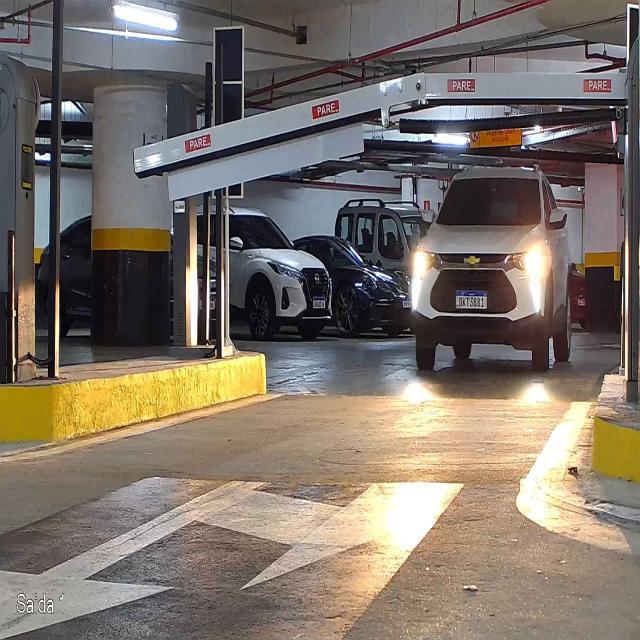mercosul_plate: (454, 288, 489, 312)
